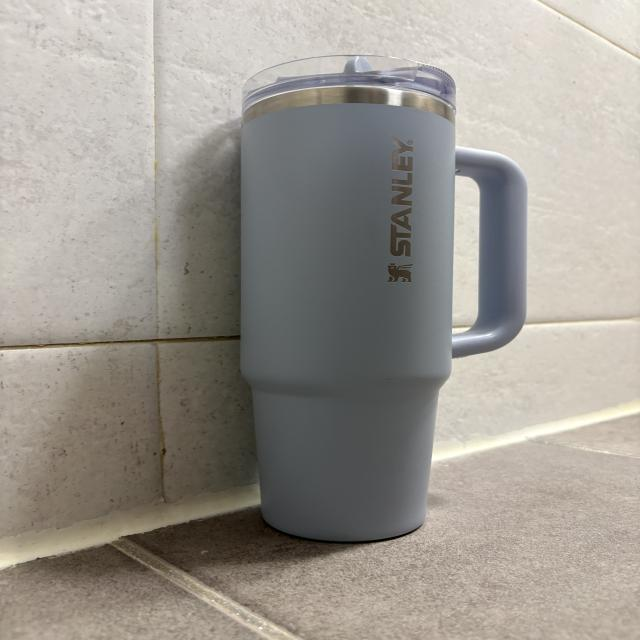waterbottle: (244, 54, 526, 543)
